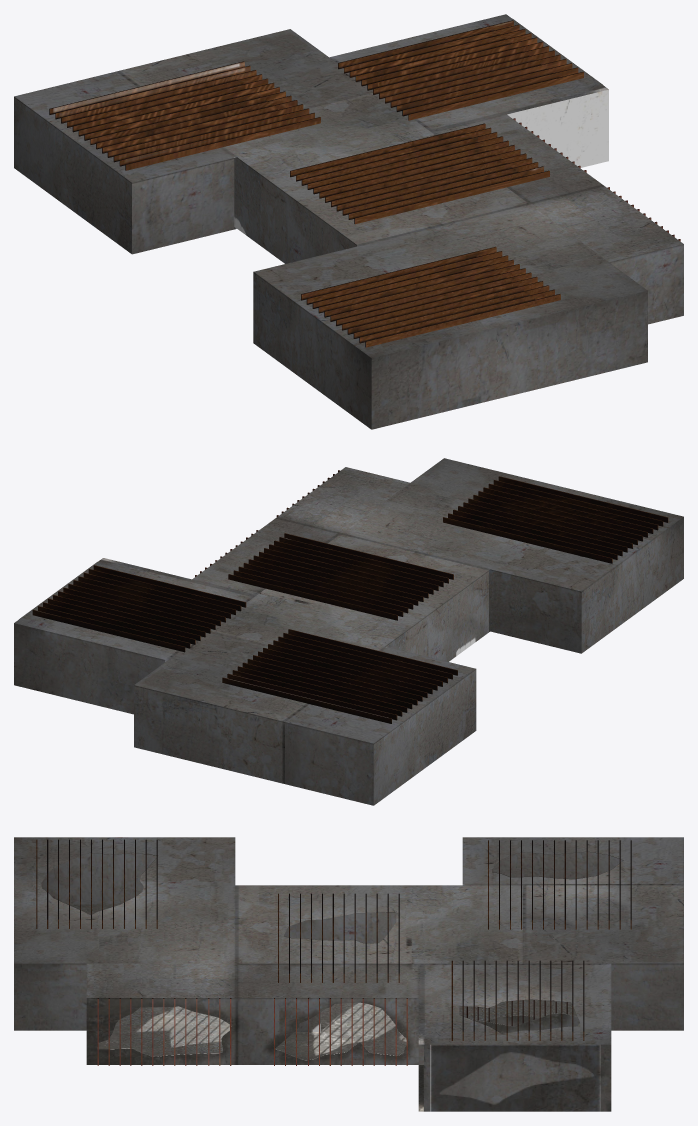
Rendered from Room.obj.
3 views of the same model, one above another, from view 1: azimuth 30°, elevation 25°; view 2: azimuth 150°, elevation 25°; view 3: azimuth 270°, elevation 25° (orthographic). The views are drawn at different scales.
Visible parts, largest first — view 1: group_5_ID491, group_3_ID459, group_7_ID523; view 2: group_3_ID459, group_5_ID491, group_7_ID523; view 3: group_5_ID491, group_3_ID459, group_0_ID4, group_4_ID484, group_8_ID830, group_7_ID523, group_2_ID104, group_6_ID498.
Boxes of the visible parts, x1,y1,x2,y2 form: group_5_ID491: (14,14,683,357); group_3_ID459: (14,89,683,429); group_7_ID523: (49,20,583,347); group_3_ID459: (14,517,683,805); group_5_ID491: (14,458,683,743); group_7_ID523: (32,476,668,723); group_5_ID491: (14,837,683,1044); group_3_ID459: (14,852,683,1064); group_0_ID4: (86,998,611,1111); group_4_ID484: (430,1044,600,1111); group_8_ID830: (68,904,577,1111); group_7_ID523: (36,839,631,1040); group_2_ID104: (97,998,567,1065); group_6_ID498: (42,851,623,1033).
Bounding box in the file's own units: 18.2 × 2.98 × 24.84.
Materials: 1 (1 with a texture image).
